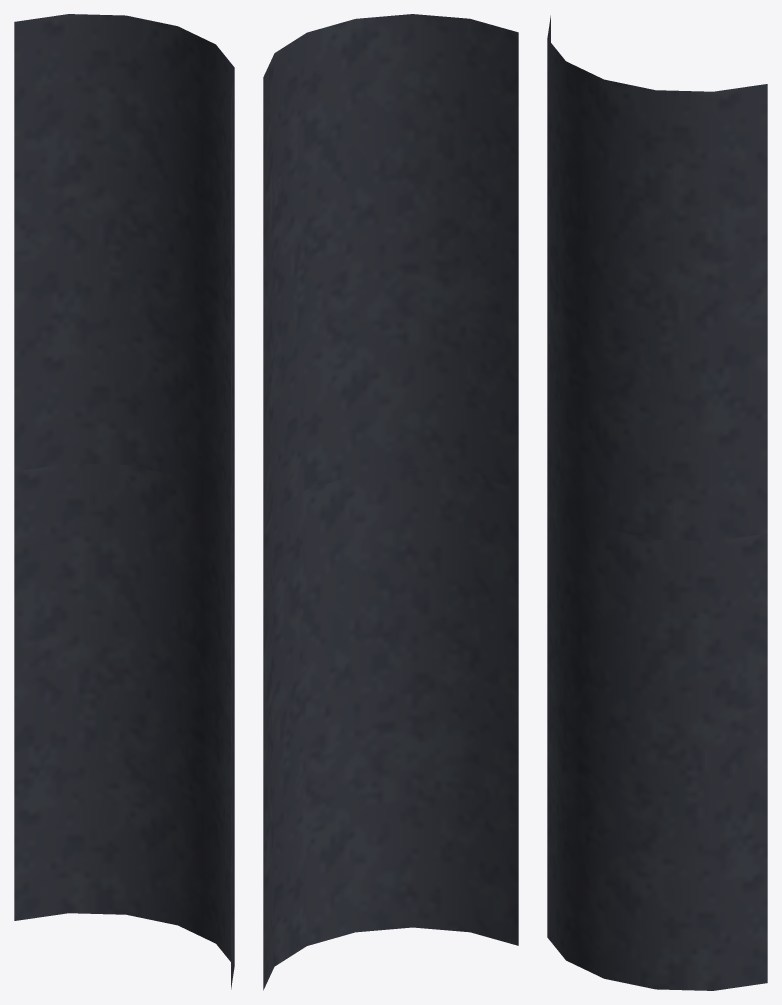
Rendered from IE_Column.fbx.
3 views of the same model, side by side, from view 1: azimuth 90°, elevation 25°; view 2: azimuth 150°, elevation 25°; view 3: azimuth 270°, elevation 25° (orthographic).
Parts seen in each view (by area): view 1: IE_Column; view 2: IE_Column; view 3: IE_Column.
Boxes of the visible parts, box(x1,y1,x2,y2) form: IE_Column: box(14, 14, 234, 989); IE_Column: box(263, 14, 518, 990); IE_Column: box(547, 15, 767, 990).
Bounding box in the file's own units: 96.71 × 522 × 116.
1 material, 1 textured.
